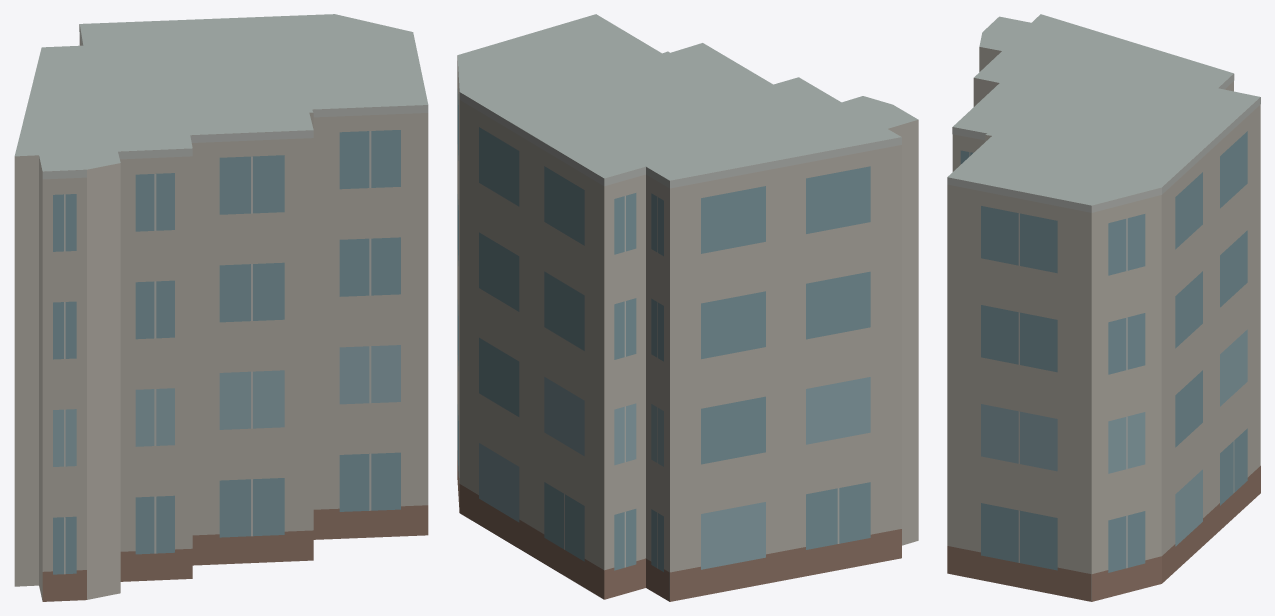
Rendered from survey-upis-33016332.glb.
The picture shows the model from 3 angles, left to right: view 1: azimuth 30°, elevation 25°; view 2: azimuth 150°, elevation 25°; view 3: azimuth 270°, elevation 25°; orthographic projection. The views are drawn at different scales.
Visible parts, largest first — view 1: survey-upis-33016332.tmp; view 2: survey-upis-33016332.tmp; view 3: survey-upis-33016332.tmp.
Part boxes in pixels (x1,y1,x2,y2): survey-upis-33016332.tmp: [14, 14, 428, 601]; survey-upis-33016332.tmp: [457, 14, 918, 601]; survey-upis-33016332.tmp: [947, 14, 1260, 601].
Bounding box in the file's own units: 13.7 × 13.2 × 9.47.
